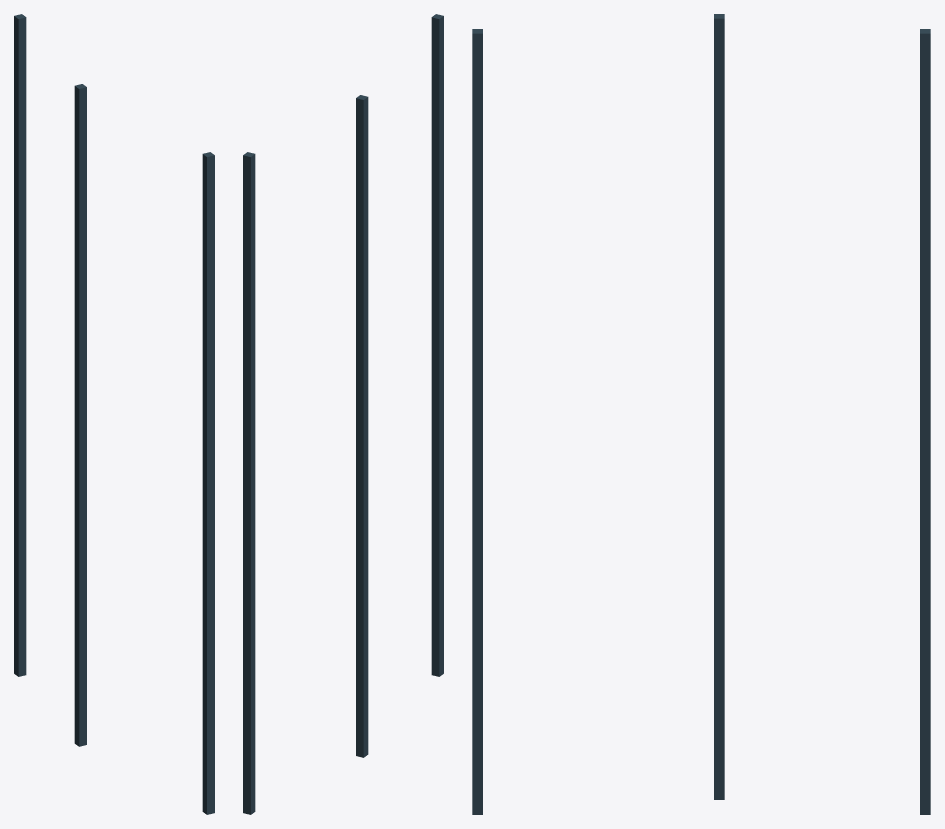
Rendered from v02-transit-world-03-01-03.glb.
The picture shows the model from 3 angles, left to right: view 1: azimuth 30°, elevation 25°; view 2: azimuth 150°, elevation 25°; view 3: azimuth 270°, elevation 25°; orthographic projection. The views are drawn at different scales.
Parts seen in each view (by area): view 1: v02-transit-world-03-01-03; view 2: v02-transit-world-03-01-03; view 3: v02-transit-world-03-01-03.
Boxes of the visible parts, x1,y1,x2,y2 form: v02-transit-world-03-01-03: (14, 14, 214, 814); v02-transit-world-03-01-03: (243, 14, 443, 814); v02-transit-world-03-01-03: (472, 14, 930, 814).
Bounding box in the file's own units: 5.2 × 96.25 × 51.19.
